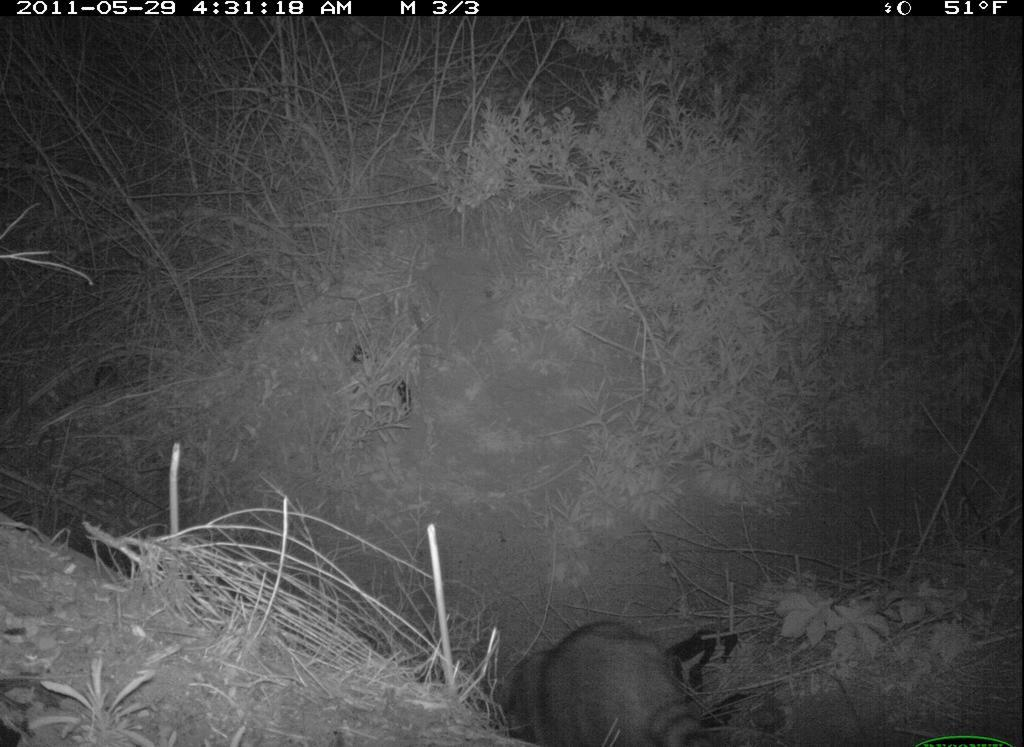raccoon: (500, 614, 747, 747)
